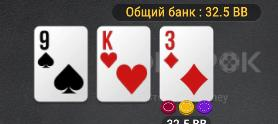3d: (161, 28, 212, 100)
9s: (35, 27, 86, 100)
Kh: (99, 28, 149, 101)
